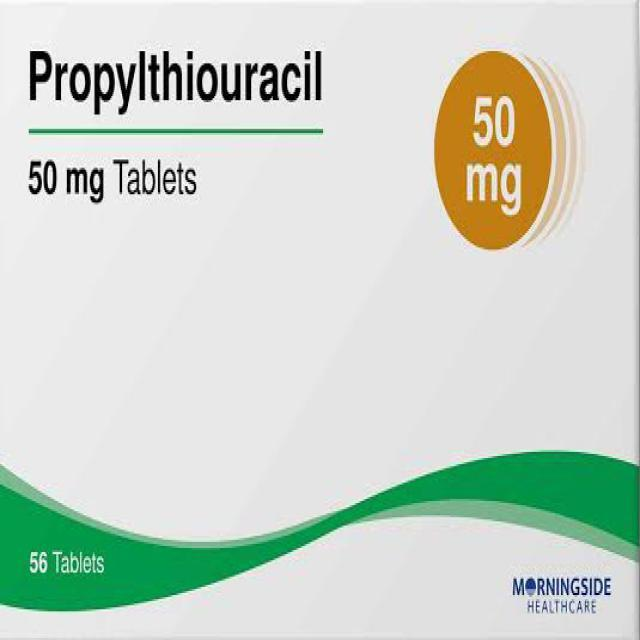drug-name: (25, 42, 325, 121)
